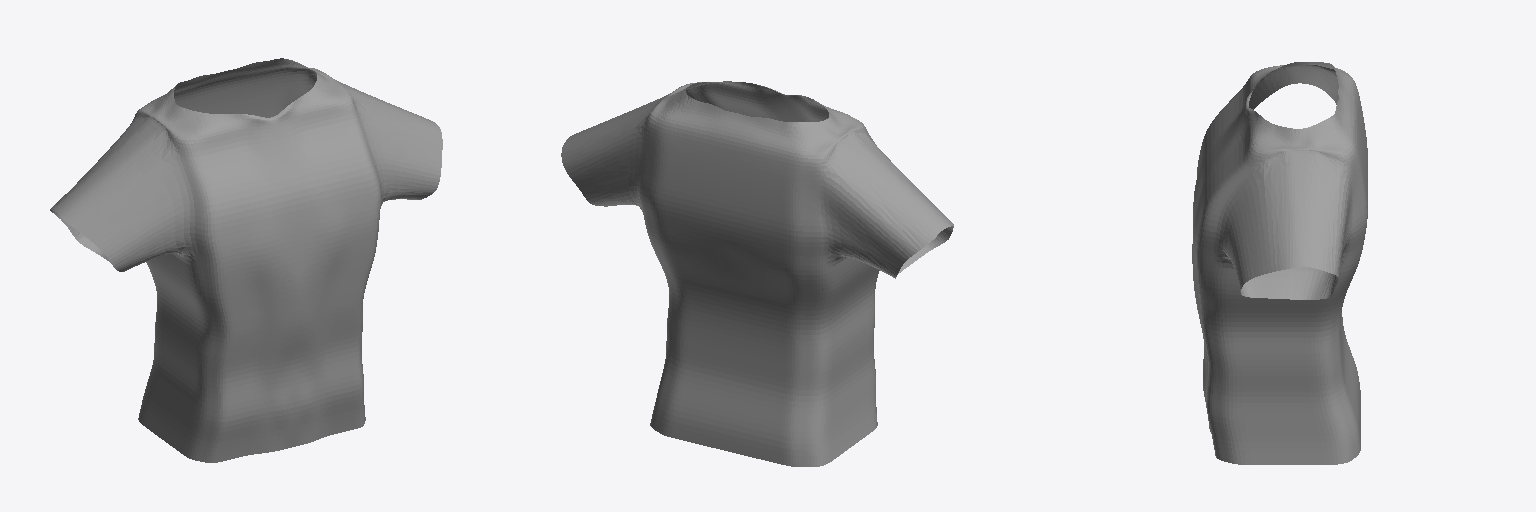
The model's file is BetterShirt.obj.
3 renders of one model, left to right at view 1: azimuth 30°, elevation 25°; view 2: azimuth 150°, elevation 25°; view 3: azimuth 270°, elevation 25°, orthographic.
Visible parts, largest first — view 1: Cube_Cube.001; view 2: Cube_Cube.001; view 3: Cube_Cube.001.
Part boxes in pixels (bbox=[...]): Cube_Cube.001: bbox=[50, 58, 442, 462]; Cube_Cube.001: bbox=[561, 81, 953, 466]; Cube_Cube.001: bbox=[1192, 62, 1367, 464].
Bounding box in the file's own units: 2.29 × 1.93 × 0.9253.